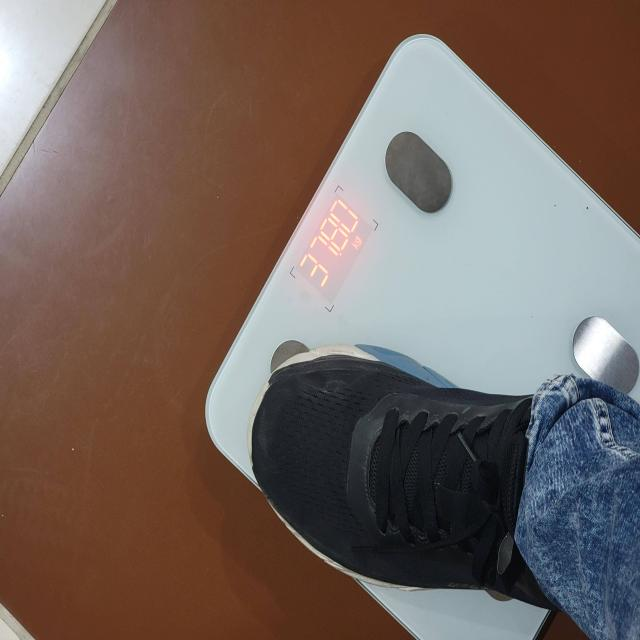ws: (204, 34, 640, 488)
